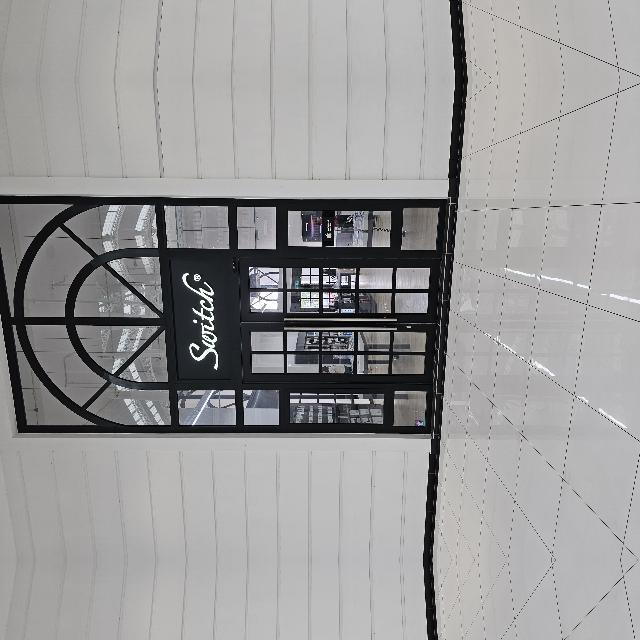door: (178, 321, 302, 517), (177, 603, 302, 640)
